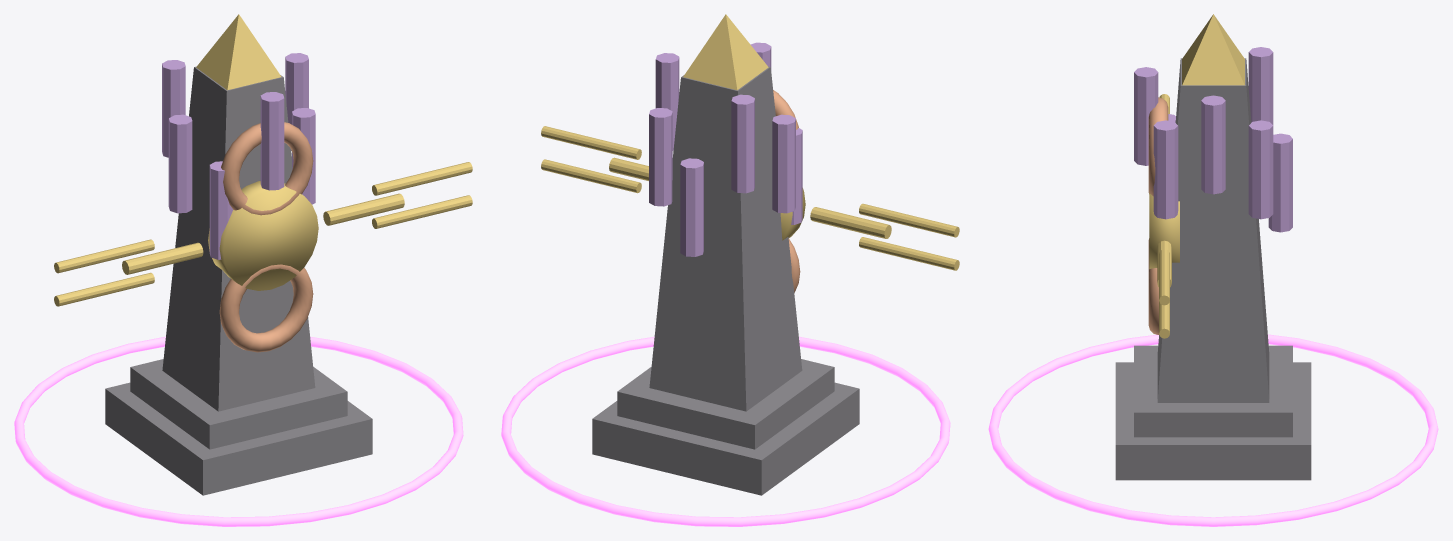
Rendered from tower_resonance_monolith.glb.
3 renders of one model, left to right at view 1: azimuth 30°, elevation 25°; view 2: azimuth 150°, elevation 25°; view 3: azimuth 270°, elevation 25°, orthographic.
Parts seen in each view (by area): view 1: Cone, Cube, Torus.002, Cube.001, Cylinder, Torus, Cone.001, Torus.001, Cylinder.011, Cylinder.013, Cylinder.010, Cylinder.012 (+8 smaller); view 2: Cone, Cube, Torus.002, Cube.001, Cone.001, Cylinder.009, Cylinder.008, Cylinder.010, Cylinder.011, Cylinder.007, Cylinder.001, Cylinder.005 (+5 smaller); view 3: Cone, Cube, Torus.002, Cube.001, Cone.001, Cylinder.008, Cylinder.014, Cylinder.007, Cylinder.009, Cylinder.010, Cylinder.013, Cylinder (+3 smaller).
Boxes of the visible parts, x1,y1,x2,y2 form: Cone: [162, 66, 315, 411]; Cube: [105, 382, 372, 495]; Torus.002: [14, 336, 463, 526]; Cube.001: [130, 359, 347, 449]; Cylinder: [208, 181, 318, 290]; Torus: [219, 264, 313, 352]; Cone.001: [196, 14, 281, 90]; Torus.001: [221, 122, 313, 215]; Cylinder.011: [168, 114, 192, 213]; Cylinder.013: [260, 92, 284, 190]; Cylinder.010: [162, 60, 185, 157]; Cylinder.012: [209, 161, 232, 259]; Cone: [649, 66, 802, 411]; Cube: [592, 382, 859, 495]; Torus.002: [501, 336, 950, 526]; Cube.001: [617, 359, 834, 449]; Cone.001: [683, 14, 768, 90]; Cylinder.009: [680, 158, 703, 256]; Cylinder.008: [649, 108, 672, 206]; Cylinder.010: [731, 94, 754, 193]; Cylinder.011: [772, 114, 795, 213]; Cylinder.007: [655, 53, 679, 150]; Cylinder.001: [810, 207, 891, 238]; Cylinder.005: [541, 159, 641, 193]; Cone: [1157, 58, 1269, 402]; Cube: [1115, 362, 1311, 480]; Torus.002: [988, 334, 1438, 526]; Cube.001: [1134, 345, 1292, 437]; Cone.001: [1182, 14, 1244, 85]; Cylinder.008: [1248, 120, 1273, 219]; Cylinder.014: [1153, 120, 1178, 219]; Cylinder.007: [1201, 95, 1225, 194]; Cylinder.009: [1268, 133, 1292, 232]; Cylinder.010: [1248, 47, 1273, 124]; Cylinder.013: [1134, 67, 1158, 165]; Cylinder: [1149, 192, 1179, 268].
Bounding box in the file's own units: 3.9 × 3.83 × 3.68.
